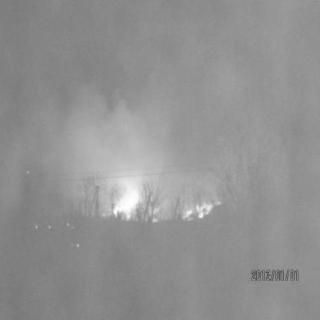Smoke: (68, 104, 174, 180)
